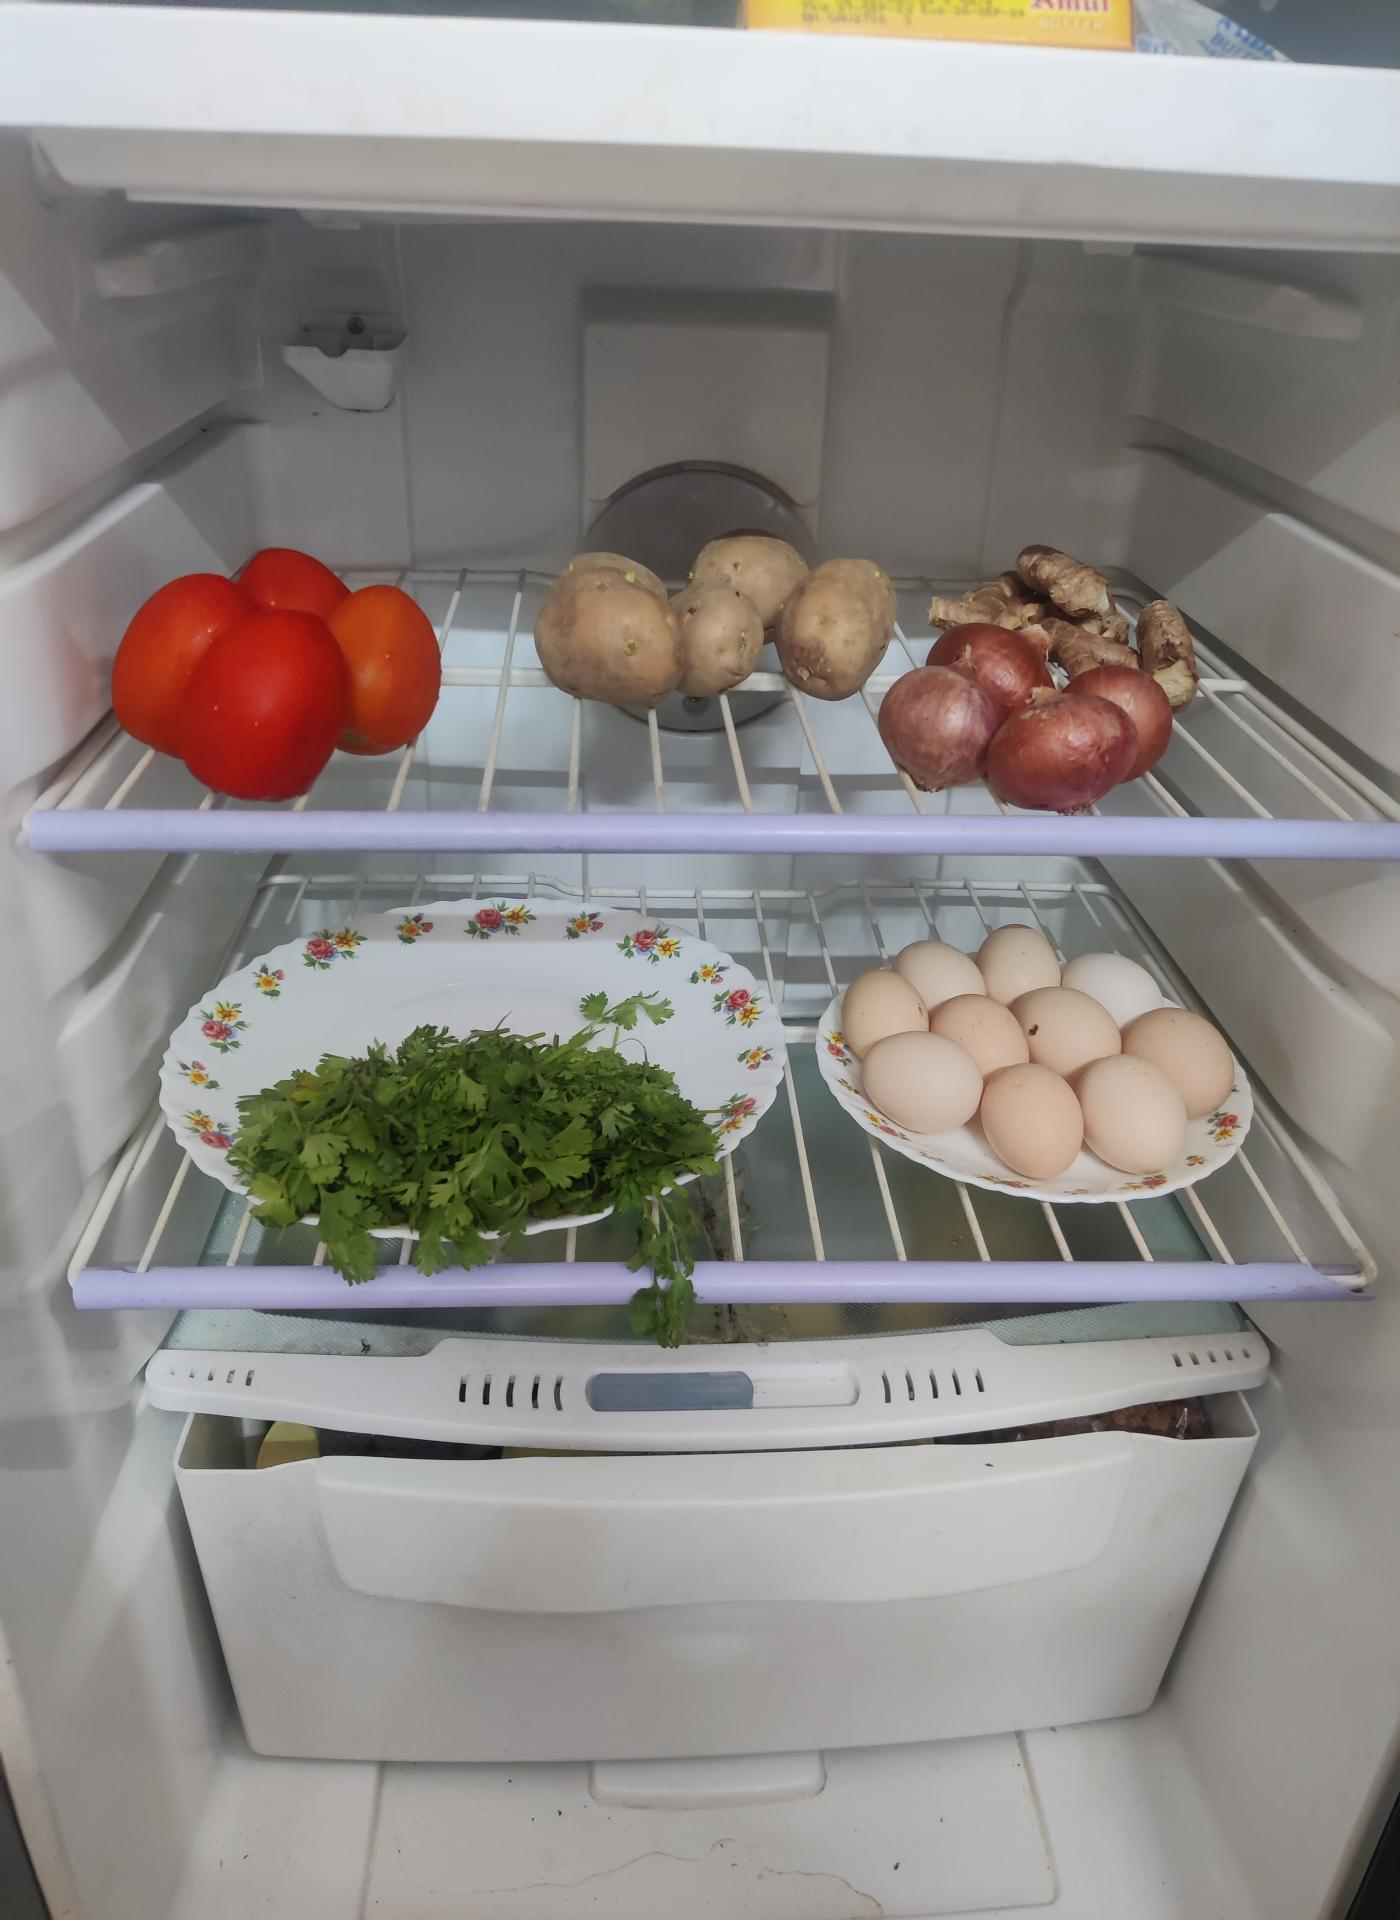coriander: (228, 1021, 726, 1254)
egg: (826, 909, 1237, 1175)
ginger: (927, 547, 1205, 678)
onion: (883, 631, 1164, 798)
potato: (538, 529, 901, 720)
tomato: (113, 540, 446, 795)
